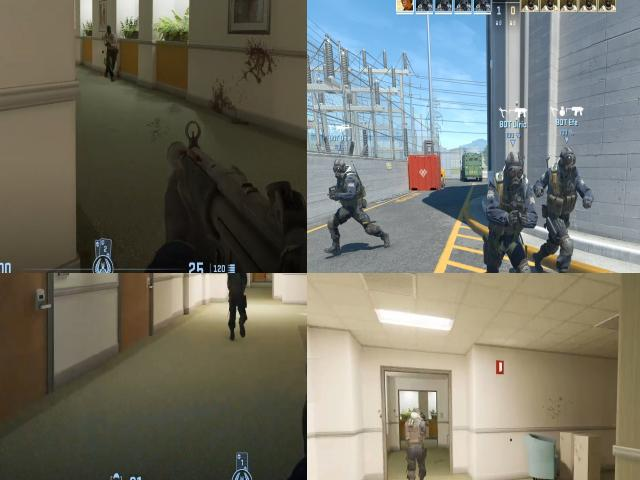CT: (482, 150, 534, 273), (541, 142, 583, 273), (330, 159, 366, 251), (401, 398, 428, 459), (226, 273, 248, 302)
CT-Head: (504, 152, 524, 184), (560, 145, 576, 174), (333, 160, 348, 180), (408, 404, 422, 424)
T: (104, 21, 120, 58)
T-Head: (104, 25, 115, 38)
